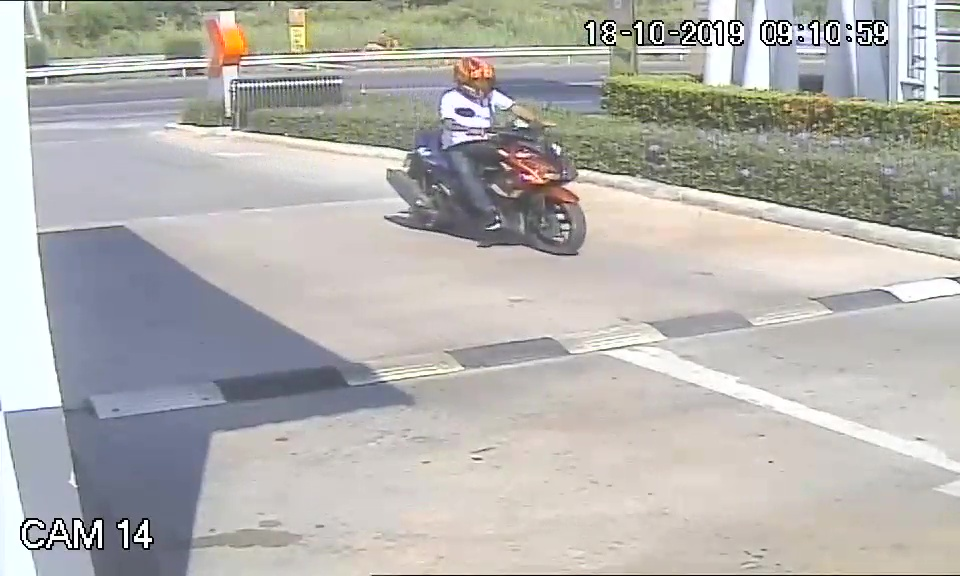motorcycle: (384, 118, 590, 256)
